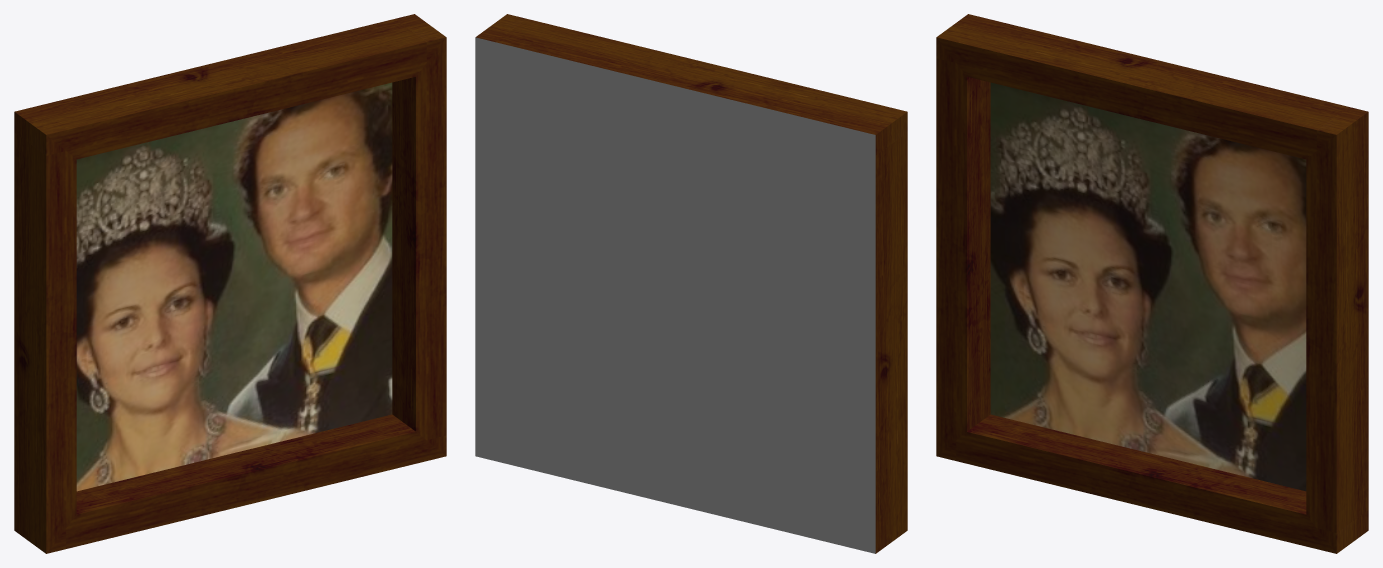
The model's file is EN_P_Frame4.fbx.
3 views of the same model, side by side, from view 1: azimuth 30°, elevation 25°; view 2: azimuth 150°, elevation 25°; view 3: azimuth 330°, elevation 25° (orthographic).
Visible parts, largest first — view 1: frame4; view 2: frame4; view 3: frame4.
Boxes of the visible parts, x1=… form: frame4: x1=14, y1=14, x2=446, y2=553; frame4: x1=475, y1=14, x2=907, y2=553; frame4: x1=936, y1=14, x2=1368, y2=553.
Bounding box in the file's own units: 26.77 × 26.77 × 3.69.
